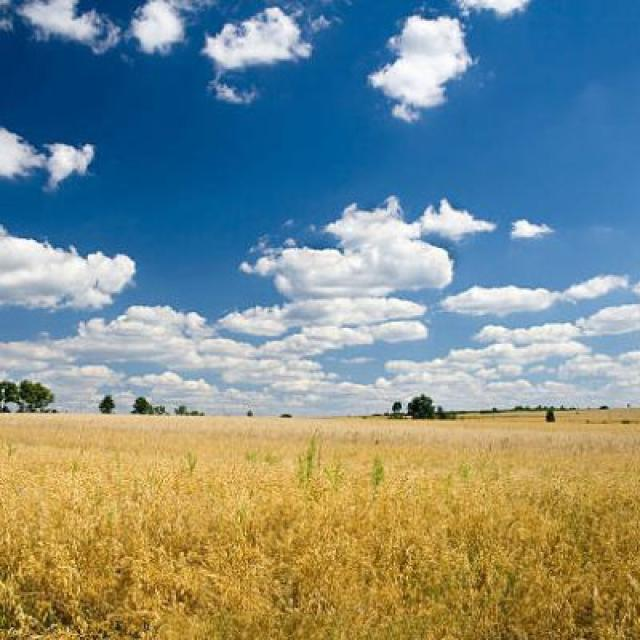Cc: (225, 202, 635, 368)
